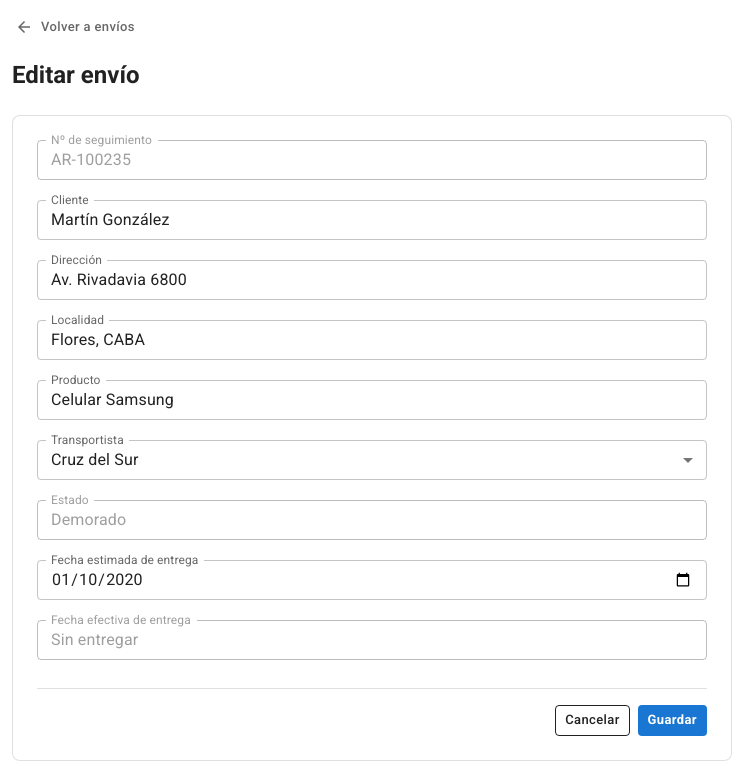
ShipmentFormPage › ofrece los transportistas activos y conserva el actual aunque esté inactivo
The image size is (749, 778).
Click the dropdown named "Transportista".
click(95, 460)  # box [51, 450, 138, 469]
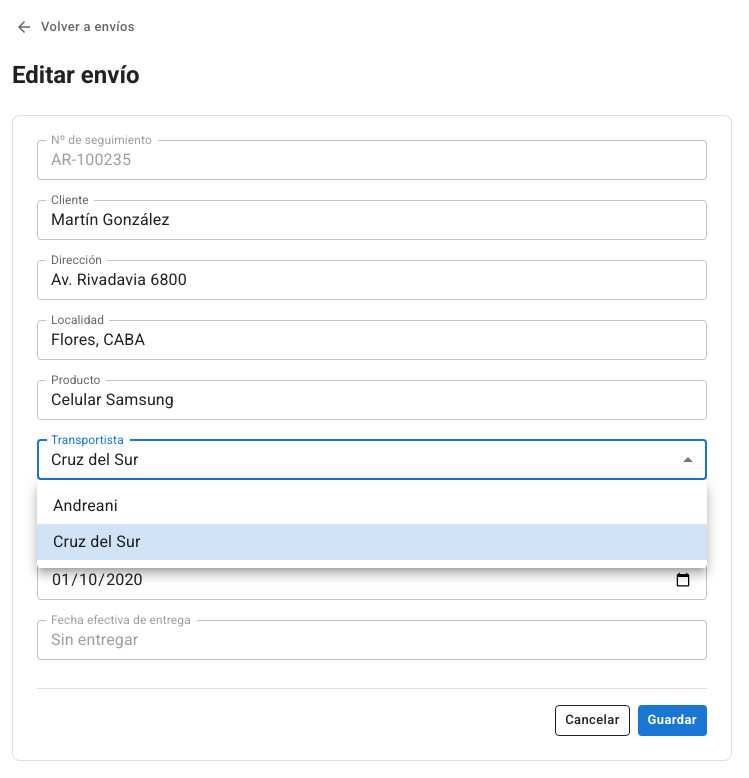
Check: the options read "Andreani", "Cruz del Sur", in this order, box [53, 496, 118, 515]; [37, 524, 707, 560]
